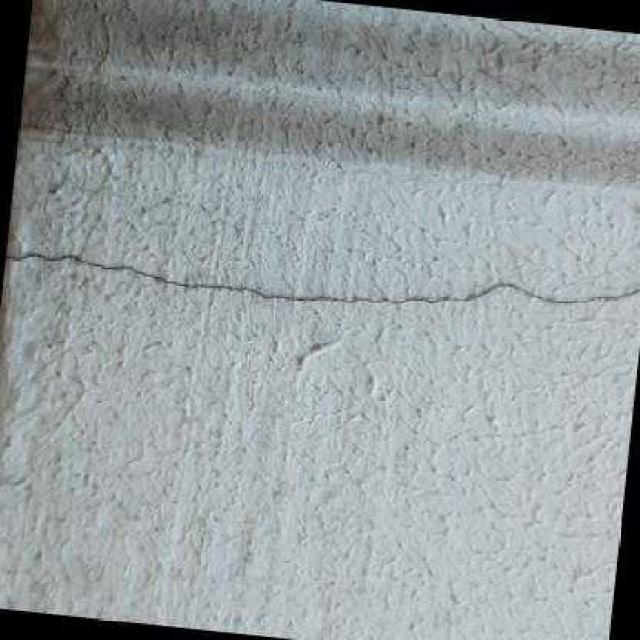D00: (9, 248, 640, 306)
